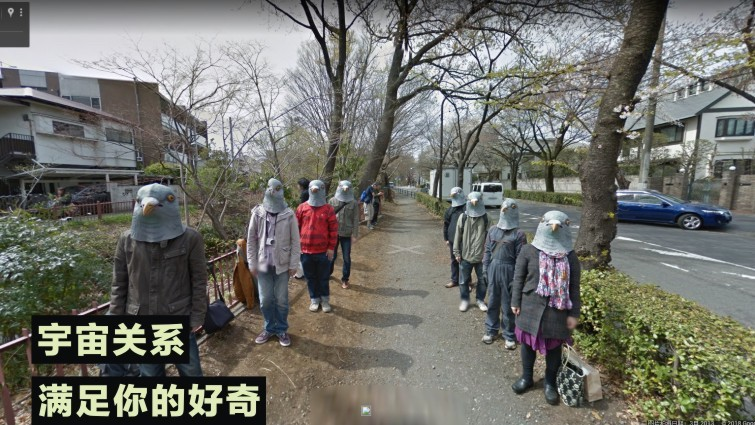people: (106, 183, 206, 369), (521, 211, 577, 401), (249, 176, 296, 344), (304, 183, 339, 318), (483, 193, 512, 347), (330, 177, 359, 280), (458, 187, 483, 306), (448, 186, 473, 289), (361, 183, 382, 241)
